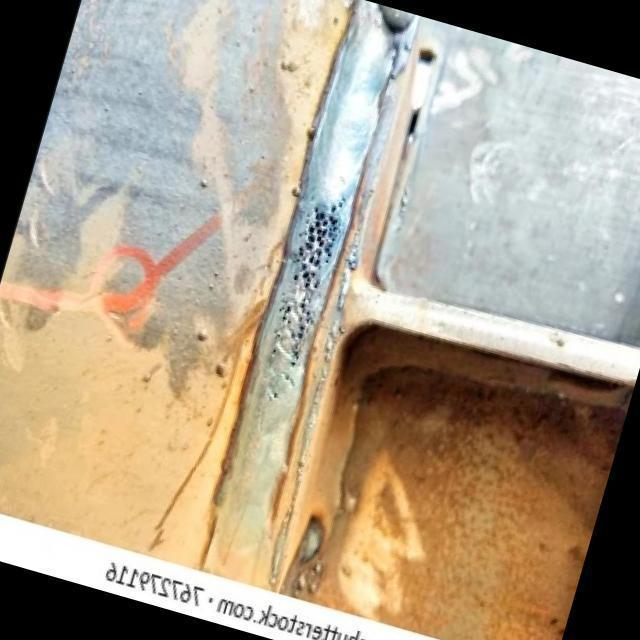defect: (263, 289, 316, 404), (289, 193, 349, 293)
